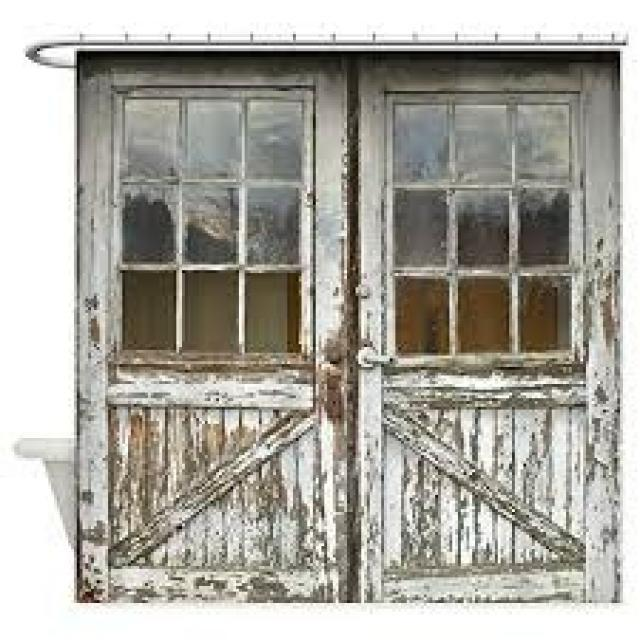Door: (80, 51, 618, 592)
